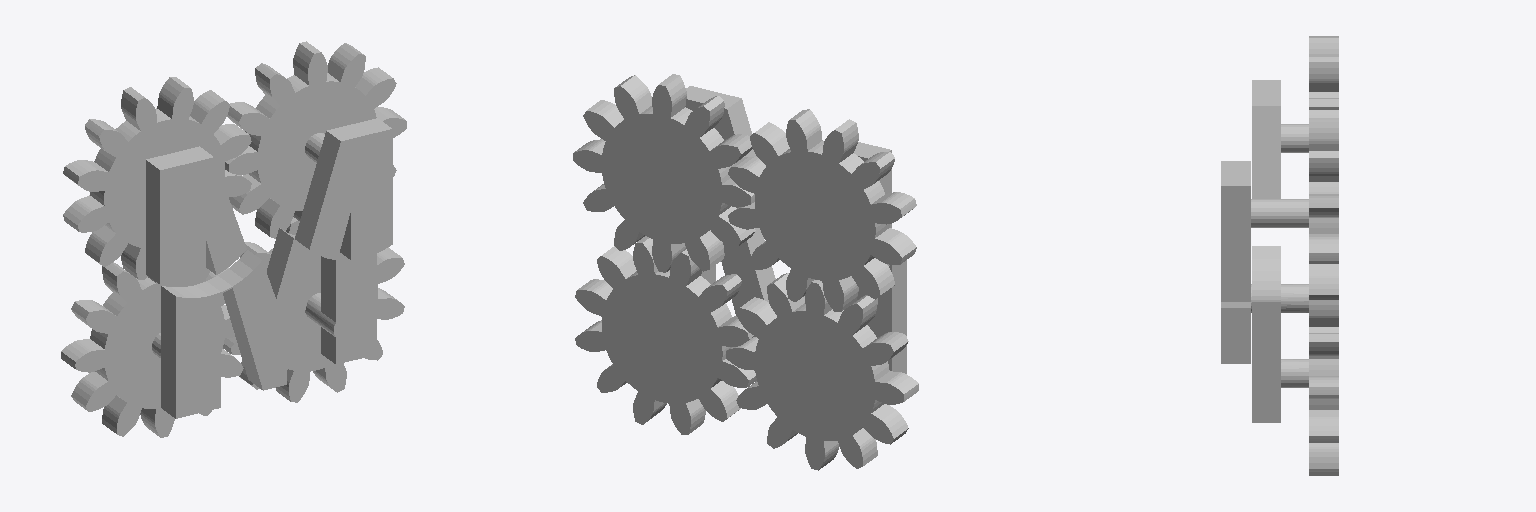
3 renders of one model, left to right at view 1: azimuth 30°, elevation 25°; view 2: azimuth 150°, elevation 25°; view 3: azimuth 270°, elevation 25°, orthographic.
Visible parts, largest first — view 1: Body1:3, Body1:2, Body1, Body1:1; view 2: Body1, Body1:3, Body1:1, Body1:2, Body11, Body10, Body12, Body9; view 3: Body1:3, Body1:1, Body1:2, Body1.
Part boxes in pixels (x1,y1,x2,y2): Body1:3: (225,41,406,260); Body1:2: (63,77,251,286); Body1: (61,250,286,437); Body1:1: (223,217,404,402); Body1: (726,260,918,470); Body1:3: (573,74,756,272); Body1:1: (575,228,775,434); Body1:2: (728,109,916,311); Body11: (802,202,827,229); Body10: (802,363,827,389); Body12: (649,325,674,352); Body9: (649,165,674,192); Body1:3: (1221,110,1338,315); Body1:1: (1252,246,1338,475); Body1:2: (1252,36,1338,198); Body1: (1221,284,1308,363).
Bounding box in the file's own units: 26 × 26 × 8.